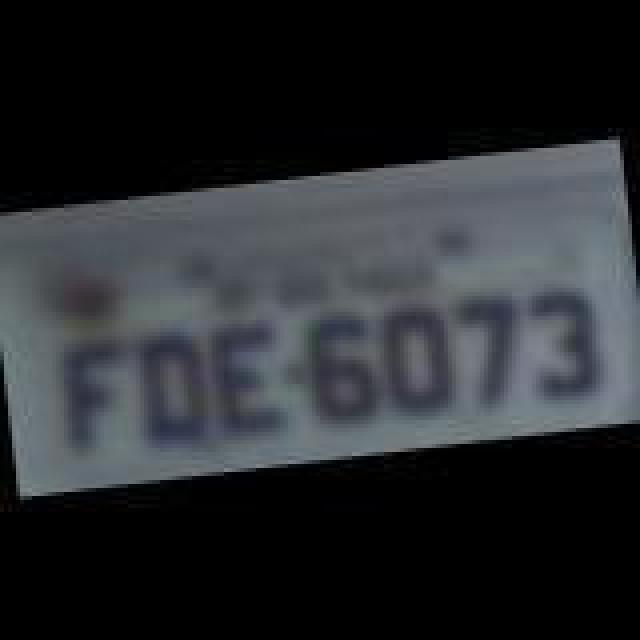3: (518, 282, 610, 406)
6: (302, 314, 386, 430)
7: (446, 290, 530, 414)
D: (132, 324, 212, 444)
E: (206, 314, 290, 438)
F: (58, 338, 134, 462)
O: (372, 302, 460, 418)
